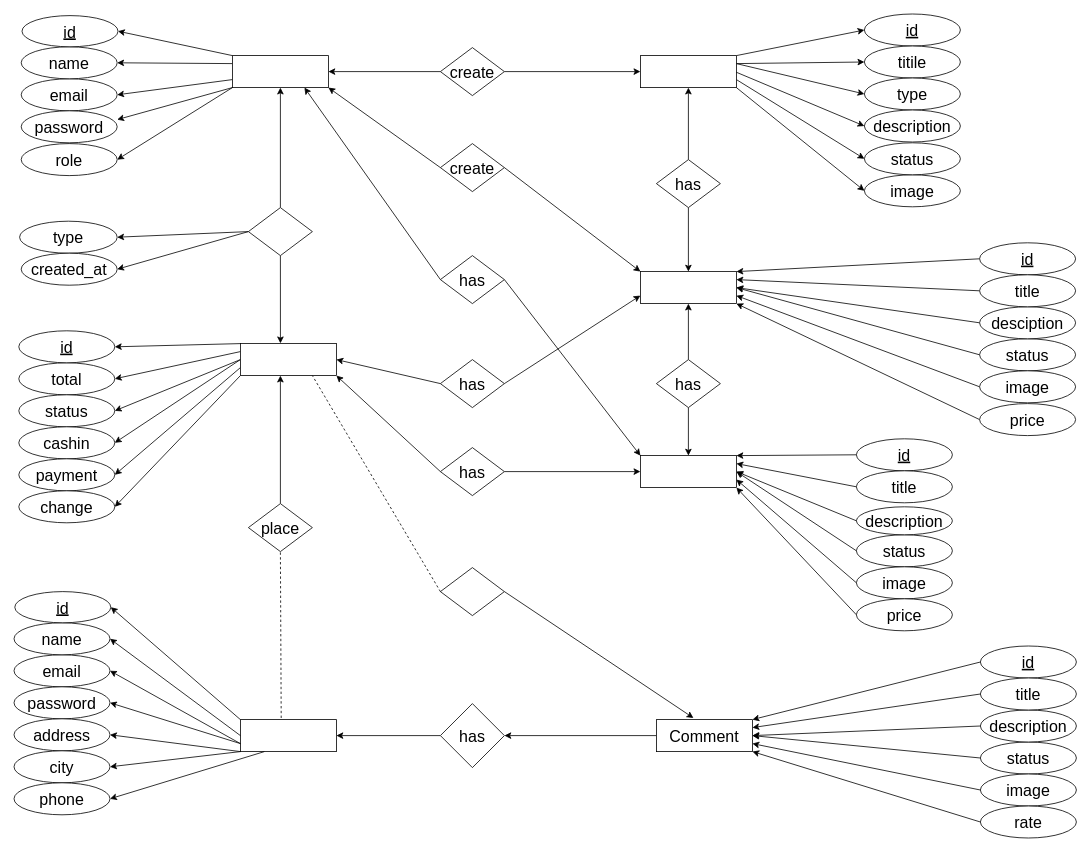
Some shapes in this 1090 by 852 pixel diagram are drawn without their labels. Here are the shapes that lost their labels. From the top down, the centre of each, then its label:
At pixel 280 71: "User".
At pixel 688 71: "Men".
At pixel 280 231: "process".
At pixel 688 287: "Item".
At pixel 288 359: "Order".
At pixel 688 471: "Meal".
At pixel 472 591: "belongs to".
At pixel 288 735: "Customer".
